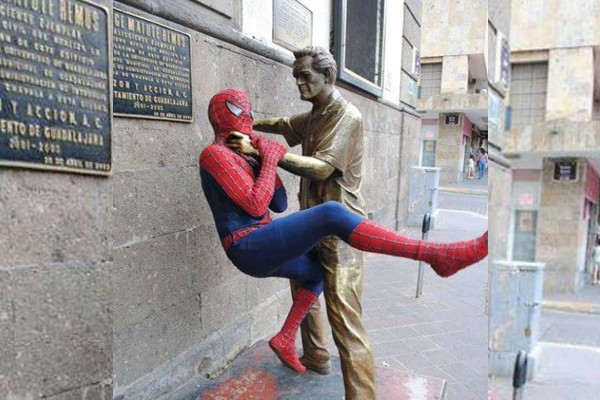person: (259, 27, 369, 161)
